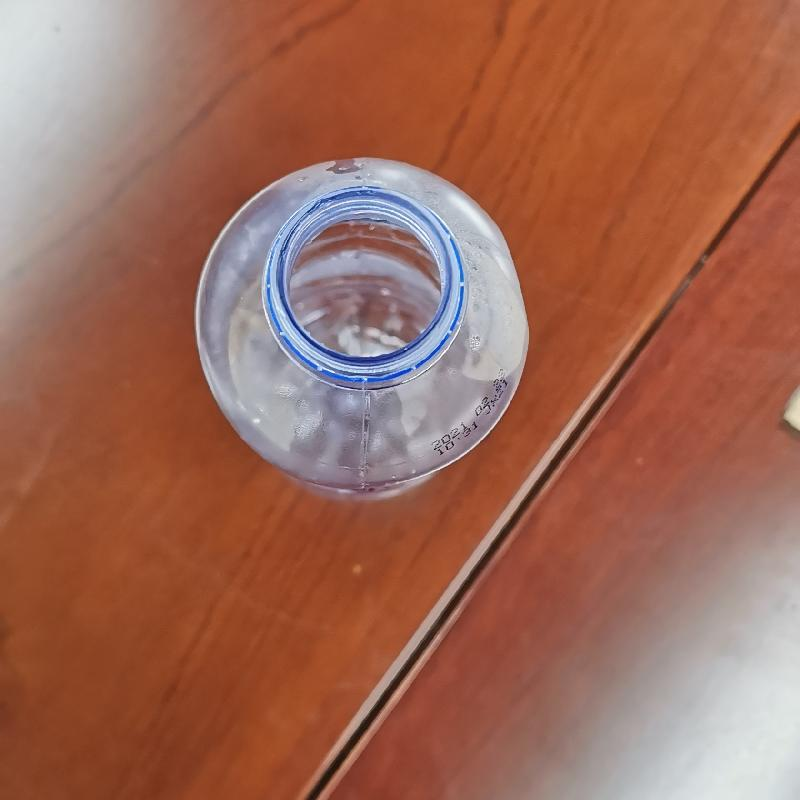bottles: (191, 155, 536, 505)
